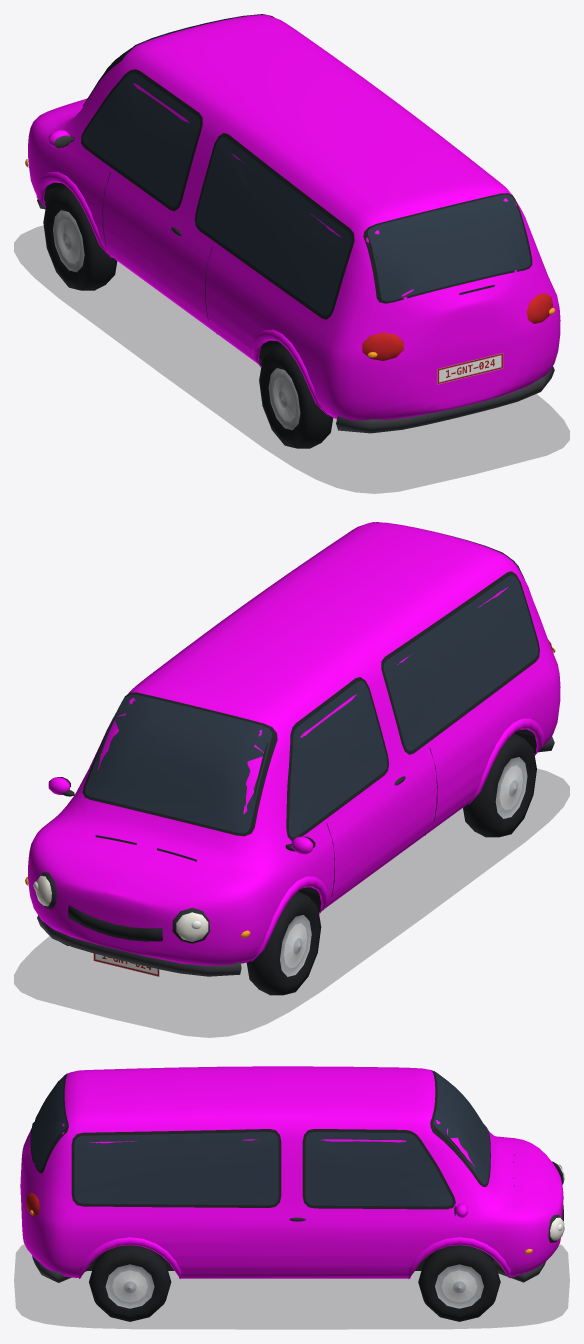
The model's file is car-van.obj.
3 renders of one model, top to bottom at view 1: azimuth 30°, elevation 25°; view 2: azimuth 150°, elevation 25°; view 3: azimuth 270°, elevation 25°, orthographic. The views are drawn at different scales.
Parts seen in each view (by area): view 1: body.rl, shadowpad.nocast, body.fl, body.rr, glass.win_rear.-1.nocast, glass.backlight.nocast, glass.win_front.-1.nocast, body.fr, wheel.RL, wheel.FL, trim.bumper_rear, glass.frame.win_rear.-1.nocast (+7 smaller); view 2: body.fl, shadowpad.nocast, body.rl, body.fr, glass.windshield.nocast, glass.win_rear.-1.nocast, glass.win_front.-1.nocast, body.rr, wheel.FL, wheel.RL, trim.bumper_front, glass.frame.windshield.nocast (+6 smaller); view 3: body.fr, body.rr, shadowpad.nocast, glass.win_rear.1.nocast, glass.win_front.1.nocast, body.fl, wheel.RR, wheel.FR, body.rl, glass.windshield.nocast, glass.frame.win_rear.1.nocast, glass.backlight.nocast (+5 smaller).
Boxes of the visible parts, bbox=[...] form: body.rl: bbox=[100, 85, 469, 420]; shadowpad.nocast: bbox=[14, 226, 569, 493]; body.fl: bbox=[28, 25, 289, 365]; body.rr: bbox=[290, 75, 560, 404]; glass.win_rear.-1.nocast: bbox=[196, 136, 351, 315]; glass.backlight.nocast: bbox=[368, 194, 530, 301]; glass.win_front.-1.nocast: bbox=[82, 73, 200, 207]; body.fr: bbox=[202, 14, 363, 85]; wheel.RL: bbox=[259, 344, 333, 448]; wheel.FL: bbox=[43, 186, 117, 290]; trim.bumper_rear: bbox=[336, 366, 554, 433]; glass.frame.win_rear.-1.nocast: bbox=[195, 133, 354, 319]; body.fl: bbox=[114, 632, 488, 965]; shadowpad.nocast: bbox=[14, 769, 569, 1037]; body.rl: bbox=[290, 532, 560, 896]; body.fr: bbox=[28, 622, 289, 948]; glass.windshield.nocast: bbox=[85, 694, 271, 833]; glass.win_rear.-1.nocast: bbox=[384, 575, 538, 750]; glass.win_front.-1.nocast: bbox=[289, 680, 387, 837]; body.rr: bbox=[216, 522, 436, 632]; wheel.FL: bbox=[246, 891, 321, 995]; wheel.RL: bbox=[463, 733, 536, 837]; trim.bumper_front: bbox=[37, 915, 241, 976]; glass.frame.windshield.nocast: bbox=[82, 692, 277, 836]; body.fr: bbox=[168, 1086, 563, 1278]; body.rr: bbox=[20, 1086, 411, 1278]; shadowpad.nocast: bbox=[14, 1244, 569, 1329]; glass.win_rear.1.nocast: bbox=[74, 1132, 278, 1205]; glass.win_front.1.nocast: bbox=[305, 1132, 453, 1206]; body.fl: bbox=[295, 1066, 563, 1193]; wheel.RR: bbox=[89, 1245, 171, 1321]; wheel.FR: bbox=[418, 1245, 500, 1321]; body.rl: bbox=[21, 1066, 295, 1158]; glass.windshield.nocast: bbox=[433, 1071, 489, 1184]; glass.frame.win_rear.1.nocast: bbox=[71, 1129, 281, 1207]; glass.backlight.nocast: bbox=[31, 1073, 66, 1170].
Size of the model in its own units: 2.08 by 1.93 by 4.98.
15 materials, 1 textured.
